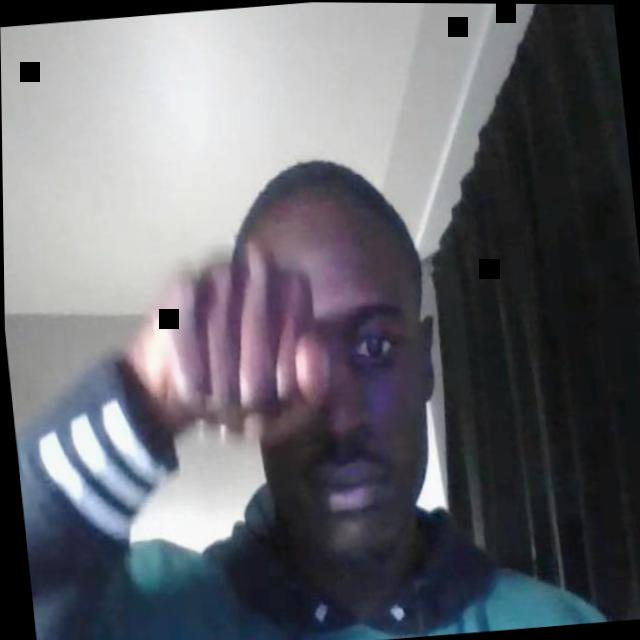NO-Mask: (239, 260, 440, 569)
